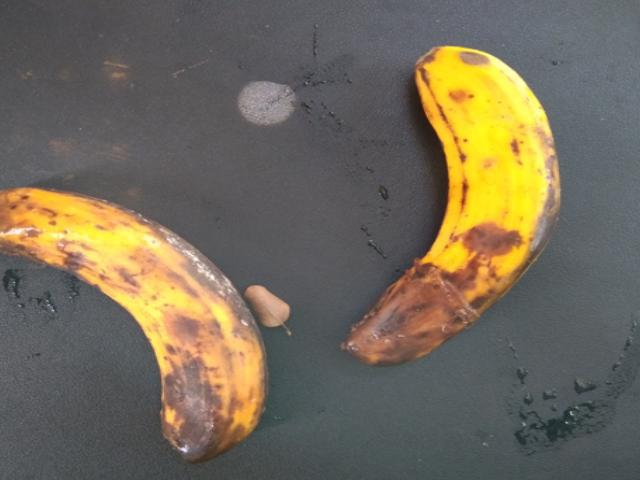rotten: (350, 28, 597, 388), (0, 163, 283, 459)
